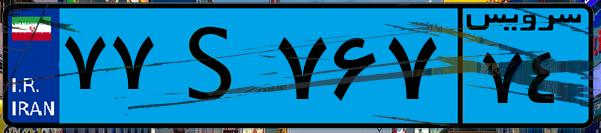4: (525, 38, 570, 115)
6: (330, 28, 385, 110)
7: (270, 28, 330, 110), (385, 28, 445, 110), (57, 26, 110, 100), (475, 38, 525, 113), (110, 28, 158, 98)
S: (158, 12, 270, 120)
